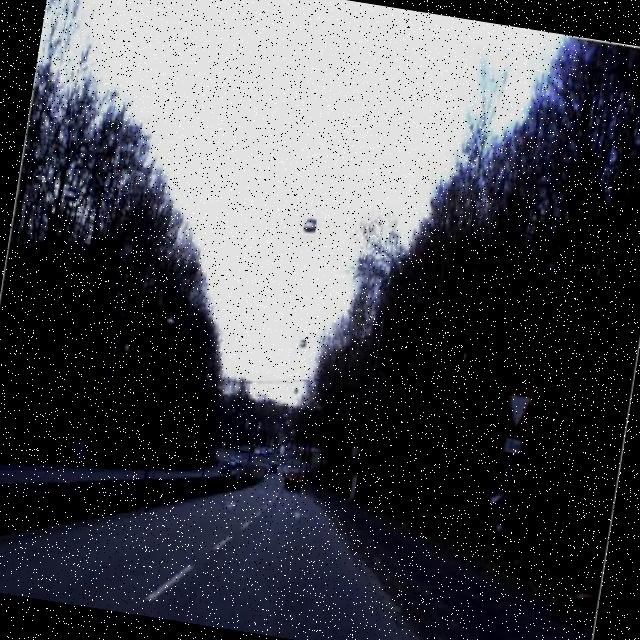Ustap pierwszenstwa: (494, 378, 541, 442)
